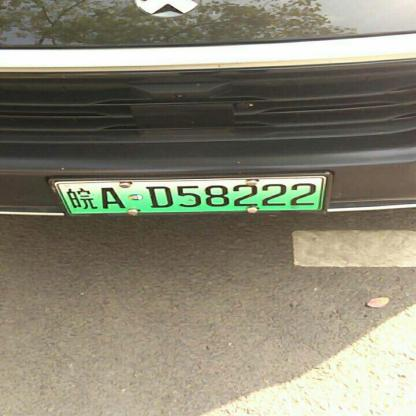lp: (52, 176, 69, 213)
